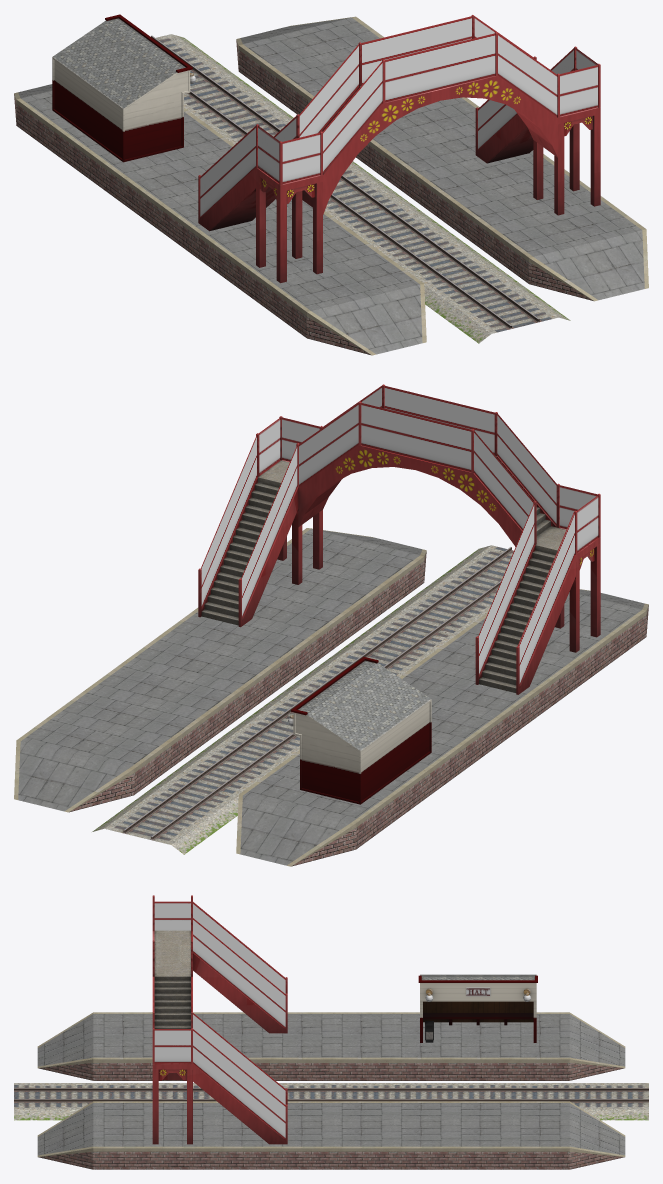
Rendered from StationHalt4.fbx.
3 views of the same model, one above another, from view 1: azimuth 30°, elevation 25°; view 2: azimuth 150°, elevation 25°; view 3: azimuth 270°, elevation 25° (orthographic). The views are drawn at different scales.
Visible parts, largest first — view 1: U3DMesh; view 2: U3DMesh; view 3: U3DMesh.
Boxes of the visible parts, x1=… form: U3DMesh: x1=14, y1=14, x2=648, y2=355; U3DMesh: x1=14, y1=384, x2=648, y2=866; U3DMesh: x1=14, y1=895, x2=648, y2=1169.
Size of the model in its own units: 16.2 by 10.23 by 32.
